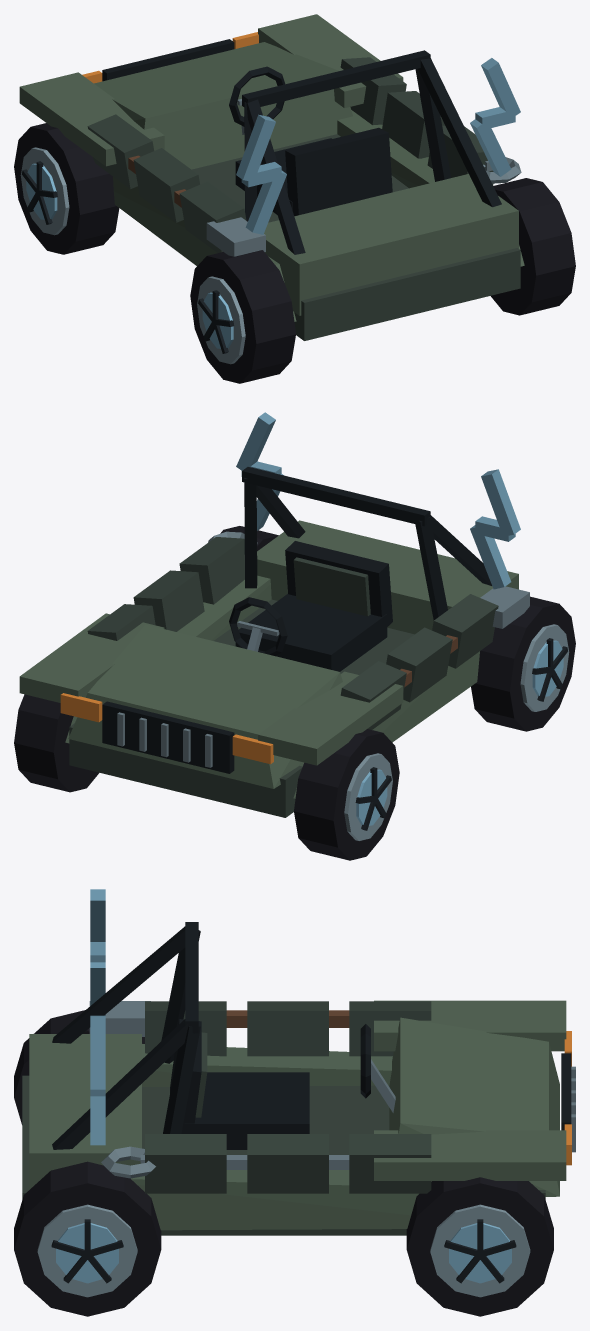
Rendered from kart.glb.
3 renders of one model, top to bottom at view 1: azimuth 30°, elevation 25°; view 2: azimuth 150°, elevation 25°; view 3: azimuth 270°, elevation 25°, orthographic. The views are drawn at different scales.
Parts seen in each view (by area): view 1: identity-jeep-jeep-offroad-frame, identity-jeep-motif-armor, wheel-rear-left, wheel-front-left, identity-jeep-driver-cockpit, wheel-rear-right, identity-jeep-motif-electric, identity-jeep-motif-tools; view 2: identity-jeep-jeep-offroad-frame, identity-jeep-motif-armor, identity-jeep-driver-cockpit, wheel-front-left, wheel-rear-left, wheel-front-right, identity-jeep-motif-electric, identity-jeep-motif-tools; view 3: identity-jeep-jeep-offroad-frame, identity-jeep-motif-armor, wheel-rear-right, wheel-front-right, identity-jeep-driver-cockpit, identity-jeep-motif-electric, identity-jeep-motif-tools, wheel-rear-left.
Part boxes in pixels (x1,y1,x2,y2): identity-jeep-jeep-offroad-frame: (19, 14, 524, 340); identity-jeep-motif-armor: (87, 57, 493, 252); wheel-rear-left: (190, 250, 295, 383); wheel-front-left: (14, 123, 119, 254); identity-jeep-driver-cockpit: (229, 66, 392, 216); wheel-rear-right: (491, 178, 575, 315); identity-jeep-motif-electric: (236, 58, 520, 234); identity-jeep-motif-tools: (128, 155, 521, 256); identity-jeep-jeep-offroad-frame: (19, 467, 518, 817); identity-jeep-motif-armor: (87, 537, 498, 729); identity-jeep-driver-cockpit: (229, 541, 392, 671); wheel-front-left: (294, 729, 399, 860); wheel-rear-left: (471, 596, 575, 731); wheel-front-right: (14, 694, 99, 792); identity-jeep-motif-electric: (236, 412, 520, 589); identity-jeep-motif-tools: (208, 531, 529, 687); identity-jeep-jeep-offroad-frame: (22, 922, 575, 1235); identity-jeep-motif-armor: (145, 1001, 431, 1193); wheel-rear-right: (14, 1161, 161, 1316); wheel-front-right: (406, 1177, 553, 1316); identity-jeep-driver-cockpit: (170, 1019, 395, 1149); identity-jeep-motif-electric: (90, 889, 105, 1145); identity-jeep-motif-tools: (89, 1001, 349, 1178); wheel-rear-left: (14, 1010, 144, 1124).
Size of the model in its own units: 2.13 by 1.49 by 2.75.
